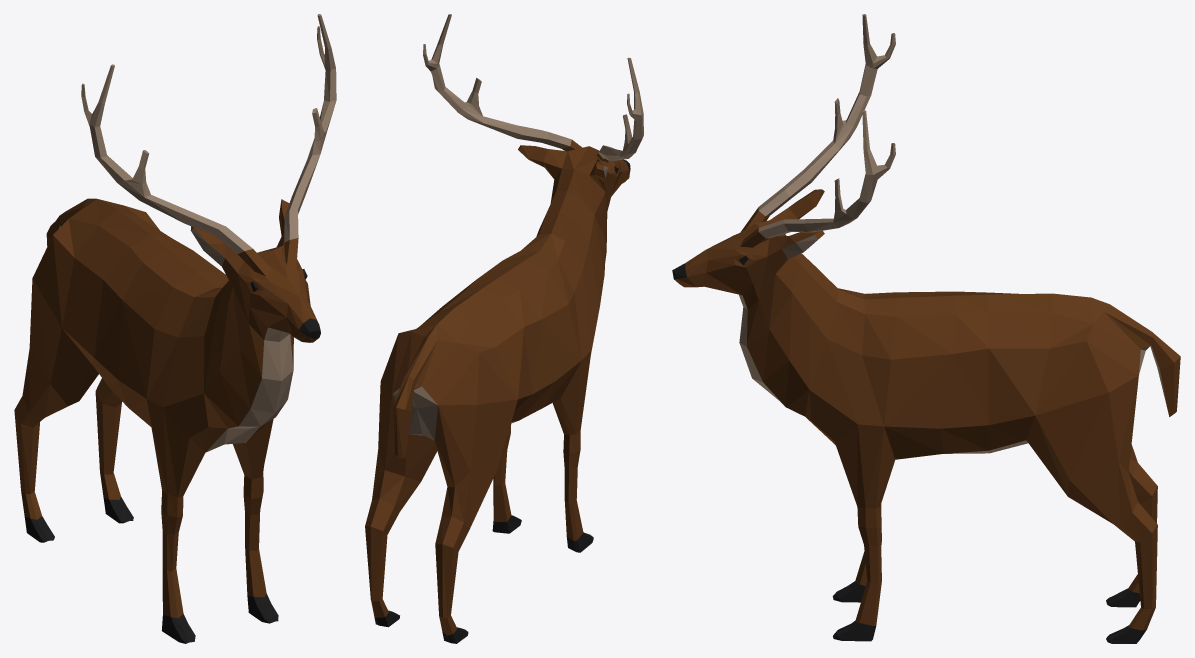
File: dear.obj
The picture shows the model from 3 angles, left to right: view 1: azimuth 30°, elevation 25°; view 2: azimuth 150°, elevation 25°; view 3: azimuth 270°, elevation 25°; orthographic projection. The views are drawn at different scales.
Parts seen in each view (by area): view 1: deer; view 2: deer; view 3: deer.
Boxes of the visible parts, x1,y1,x2,y2 form: deer: (14, 14, 336, 643); deer: (365, 14, 643, 643); deer: (672, 14, 1180, 643).
Size of the model in its own units: 4.1 by 9.39 by 7.74.
